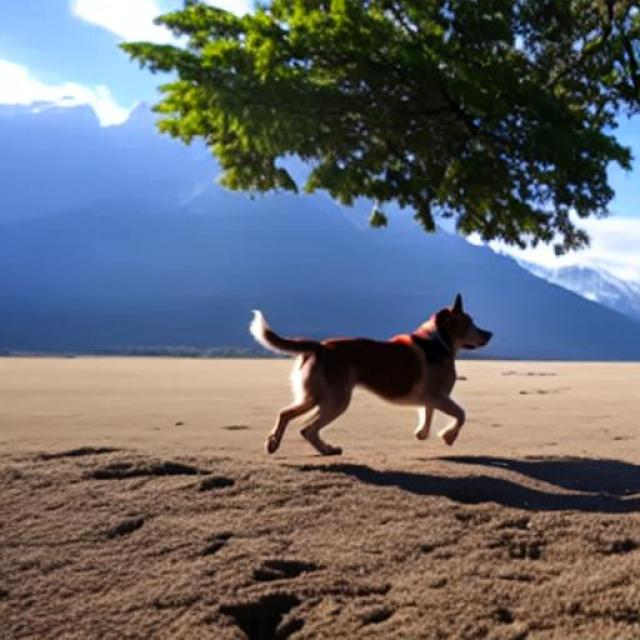Dog: (250, 292, 492, 456)
